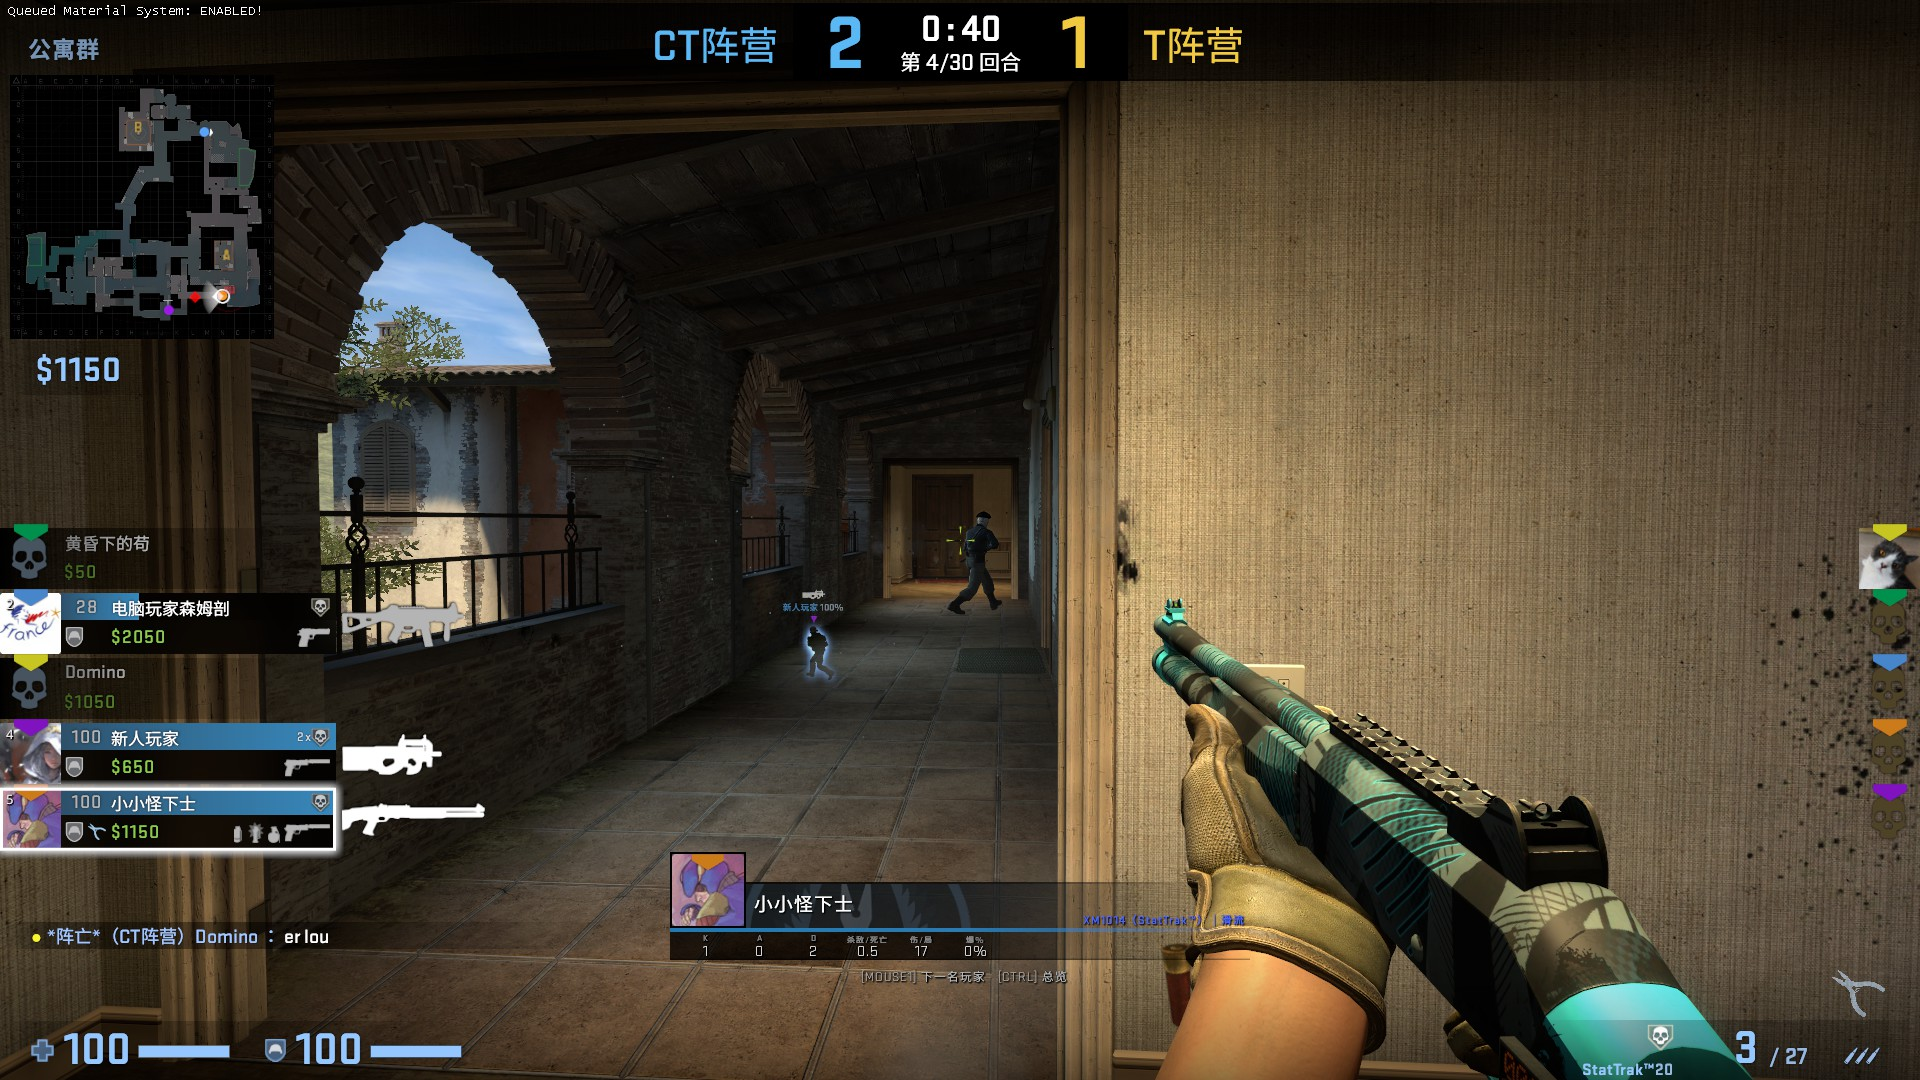head: (974, 509, 990, 528)
